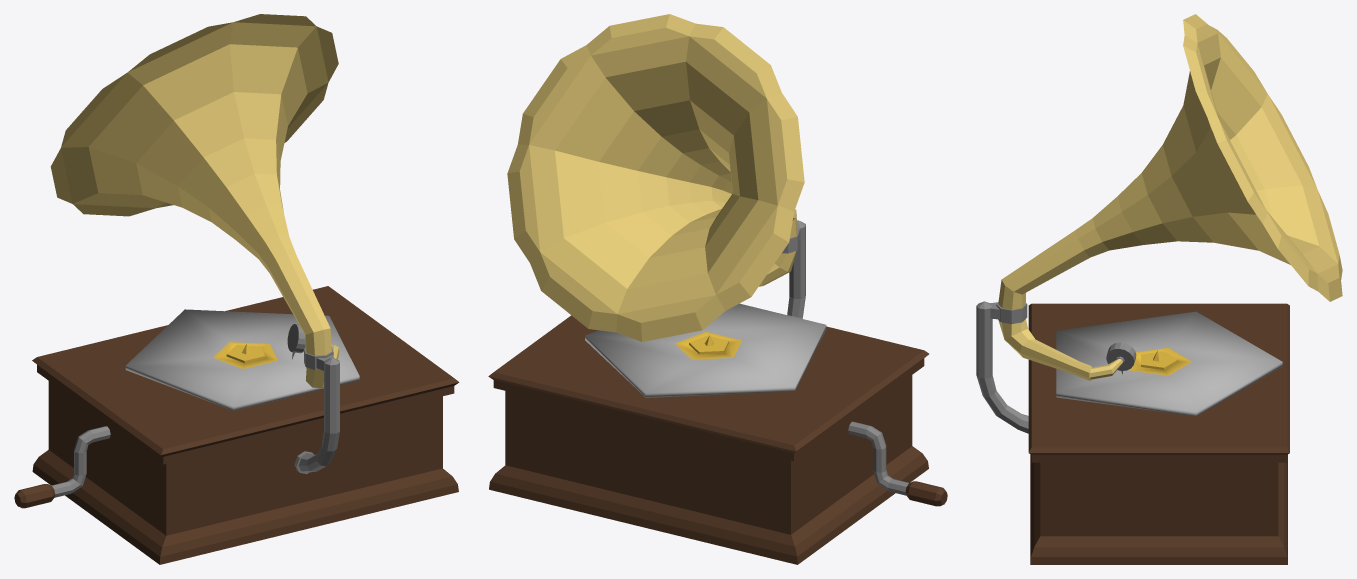
Rendered from APD_Player_PD.fbx.
3 views of the same model, side by side, from view 1: azimuth 30°, elevation 25°; view 2: azimuth 150°, elevation 25°; view 3: azimuth 270°, elevation 25° (orthographic). The views are drawn at different scales.
Parts seen in each view (by area): view 1: Box, Horn, PD, Handle, Arm; view 2: Horn, Box, PD, Handle, Spindle; view 3: Box, Horn, PD, Arm, Spindle.
Part boxes in pixels (box(x1,y1,x2,y2)): Box: box(32, 286, 459, 564); Horn: box(50, 14, 338, 355); PD: box(125, 309, 359, 410); Handle: box(14, 426, 110, 508); Arm: box(287, 324, 339, 388); Horn: box(507, 14, 804, 341); Box: box(488, 220, 928, 564); PD: box(585, 303, 826, 397); Handle: box(848, 421, 947, 506); Spindle: box(689, 335, 728, 354); Box: box(976, 301, 1289, 564); Horn: box(998, 14, 1342, 309); PD: box(1056, 311, 1282, 416); Arm: box(998, 319, 1136, 380); Spindle: box(1141, 350, 1178, 369).
Bounding box in the file's own units: 88.19 × 101 × 73.19.
